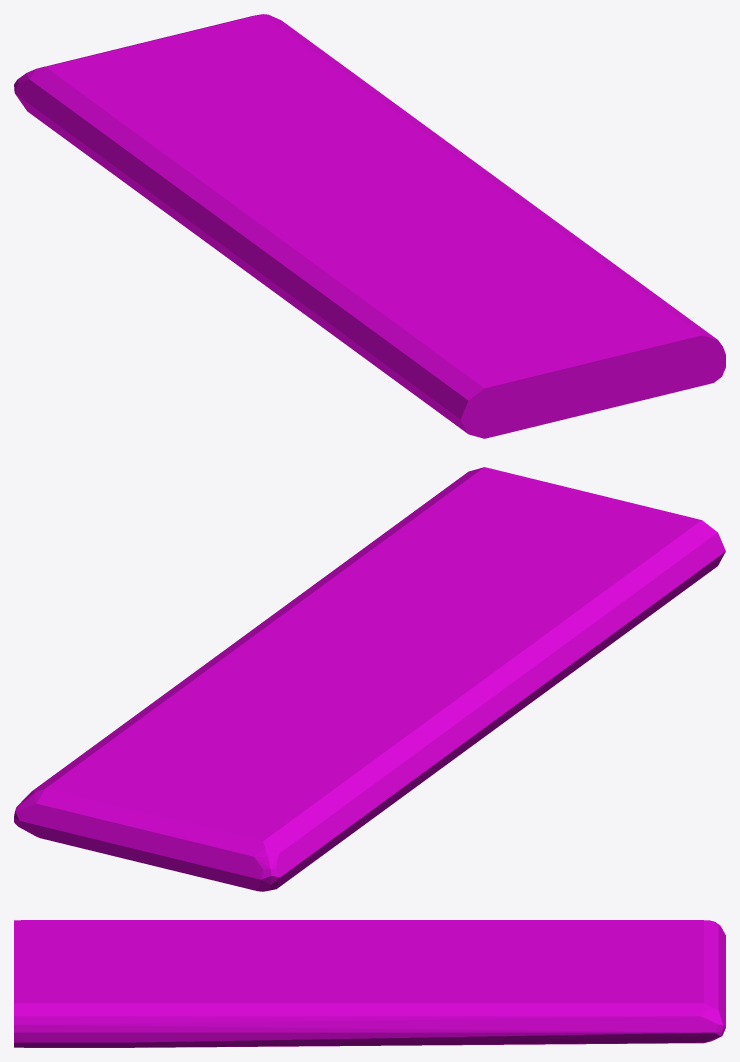
File: model0_convex_piece_008.obj
3 views of the same model, one above another, from view 1: azimuth 30°, elevation 25°; view 2: azimuth 150°, elevation 25°; view 3: azimuth 270°, elevation 25° (orthographic). The views are drawn at different scales.
Bounding box in the file's own units: 0.0153 × 0.00278 × 0.0452.
